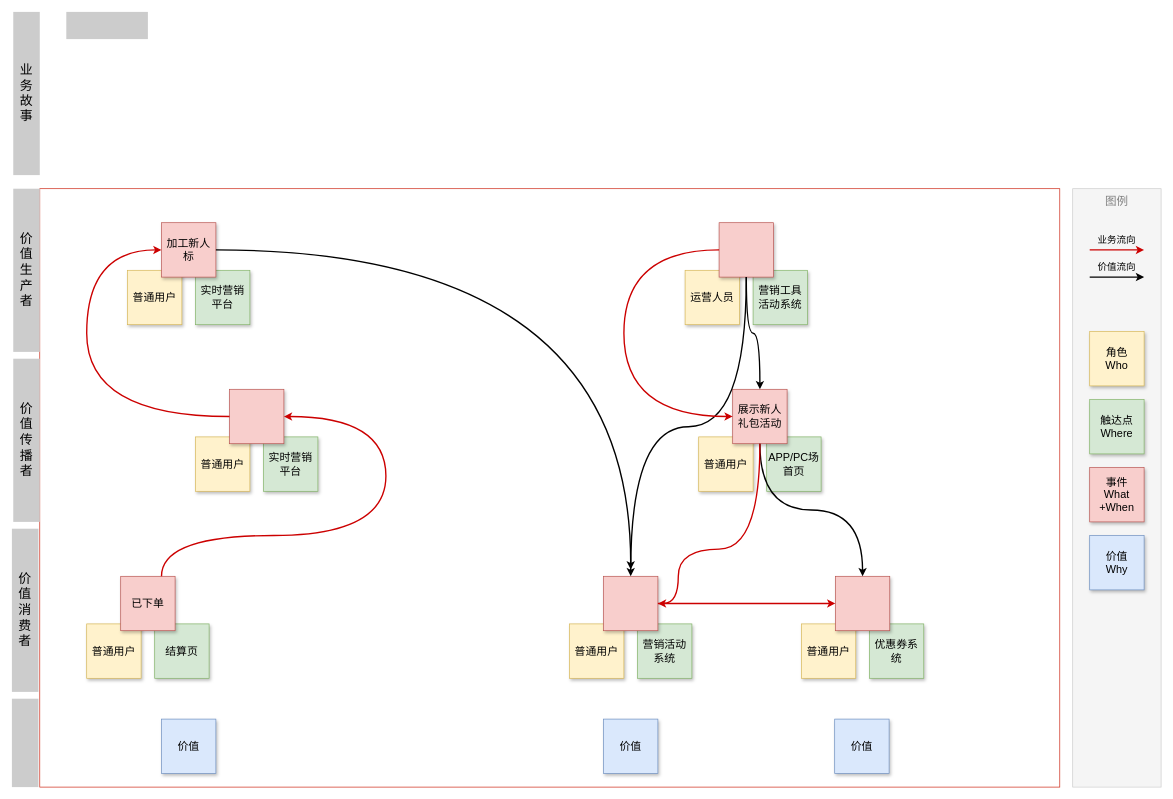
This 1173x799 diagram has some shape labels left out. Here are the shapes that lost their labels. From the top down, the centre of each, then its label:
At (107,25): "业务背景".
At (747,250): "创建新人礼包活动".
At (257,417): "接收订单生产消息".
At (631,604): "领取新人礼包".
At (863,604): "发放优惠券".
At (25,742): "预期价值".
